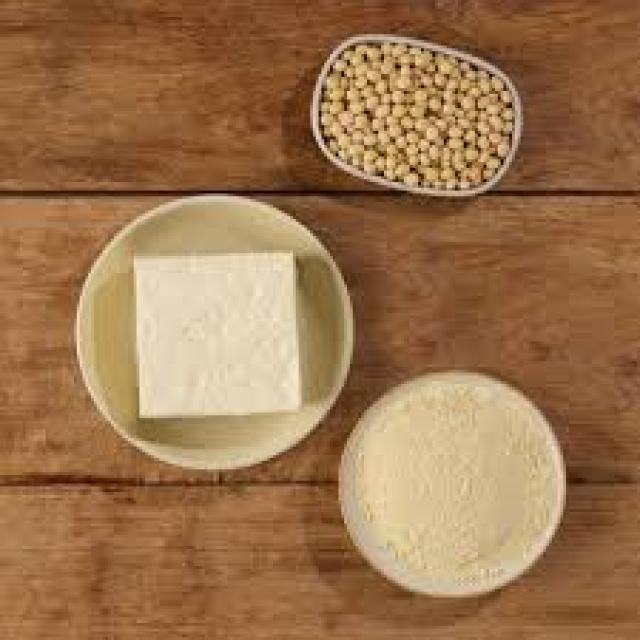tofu: (122, 230, 317, 428)
